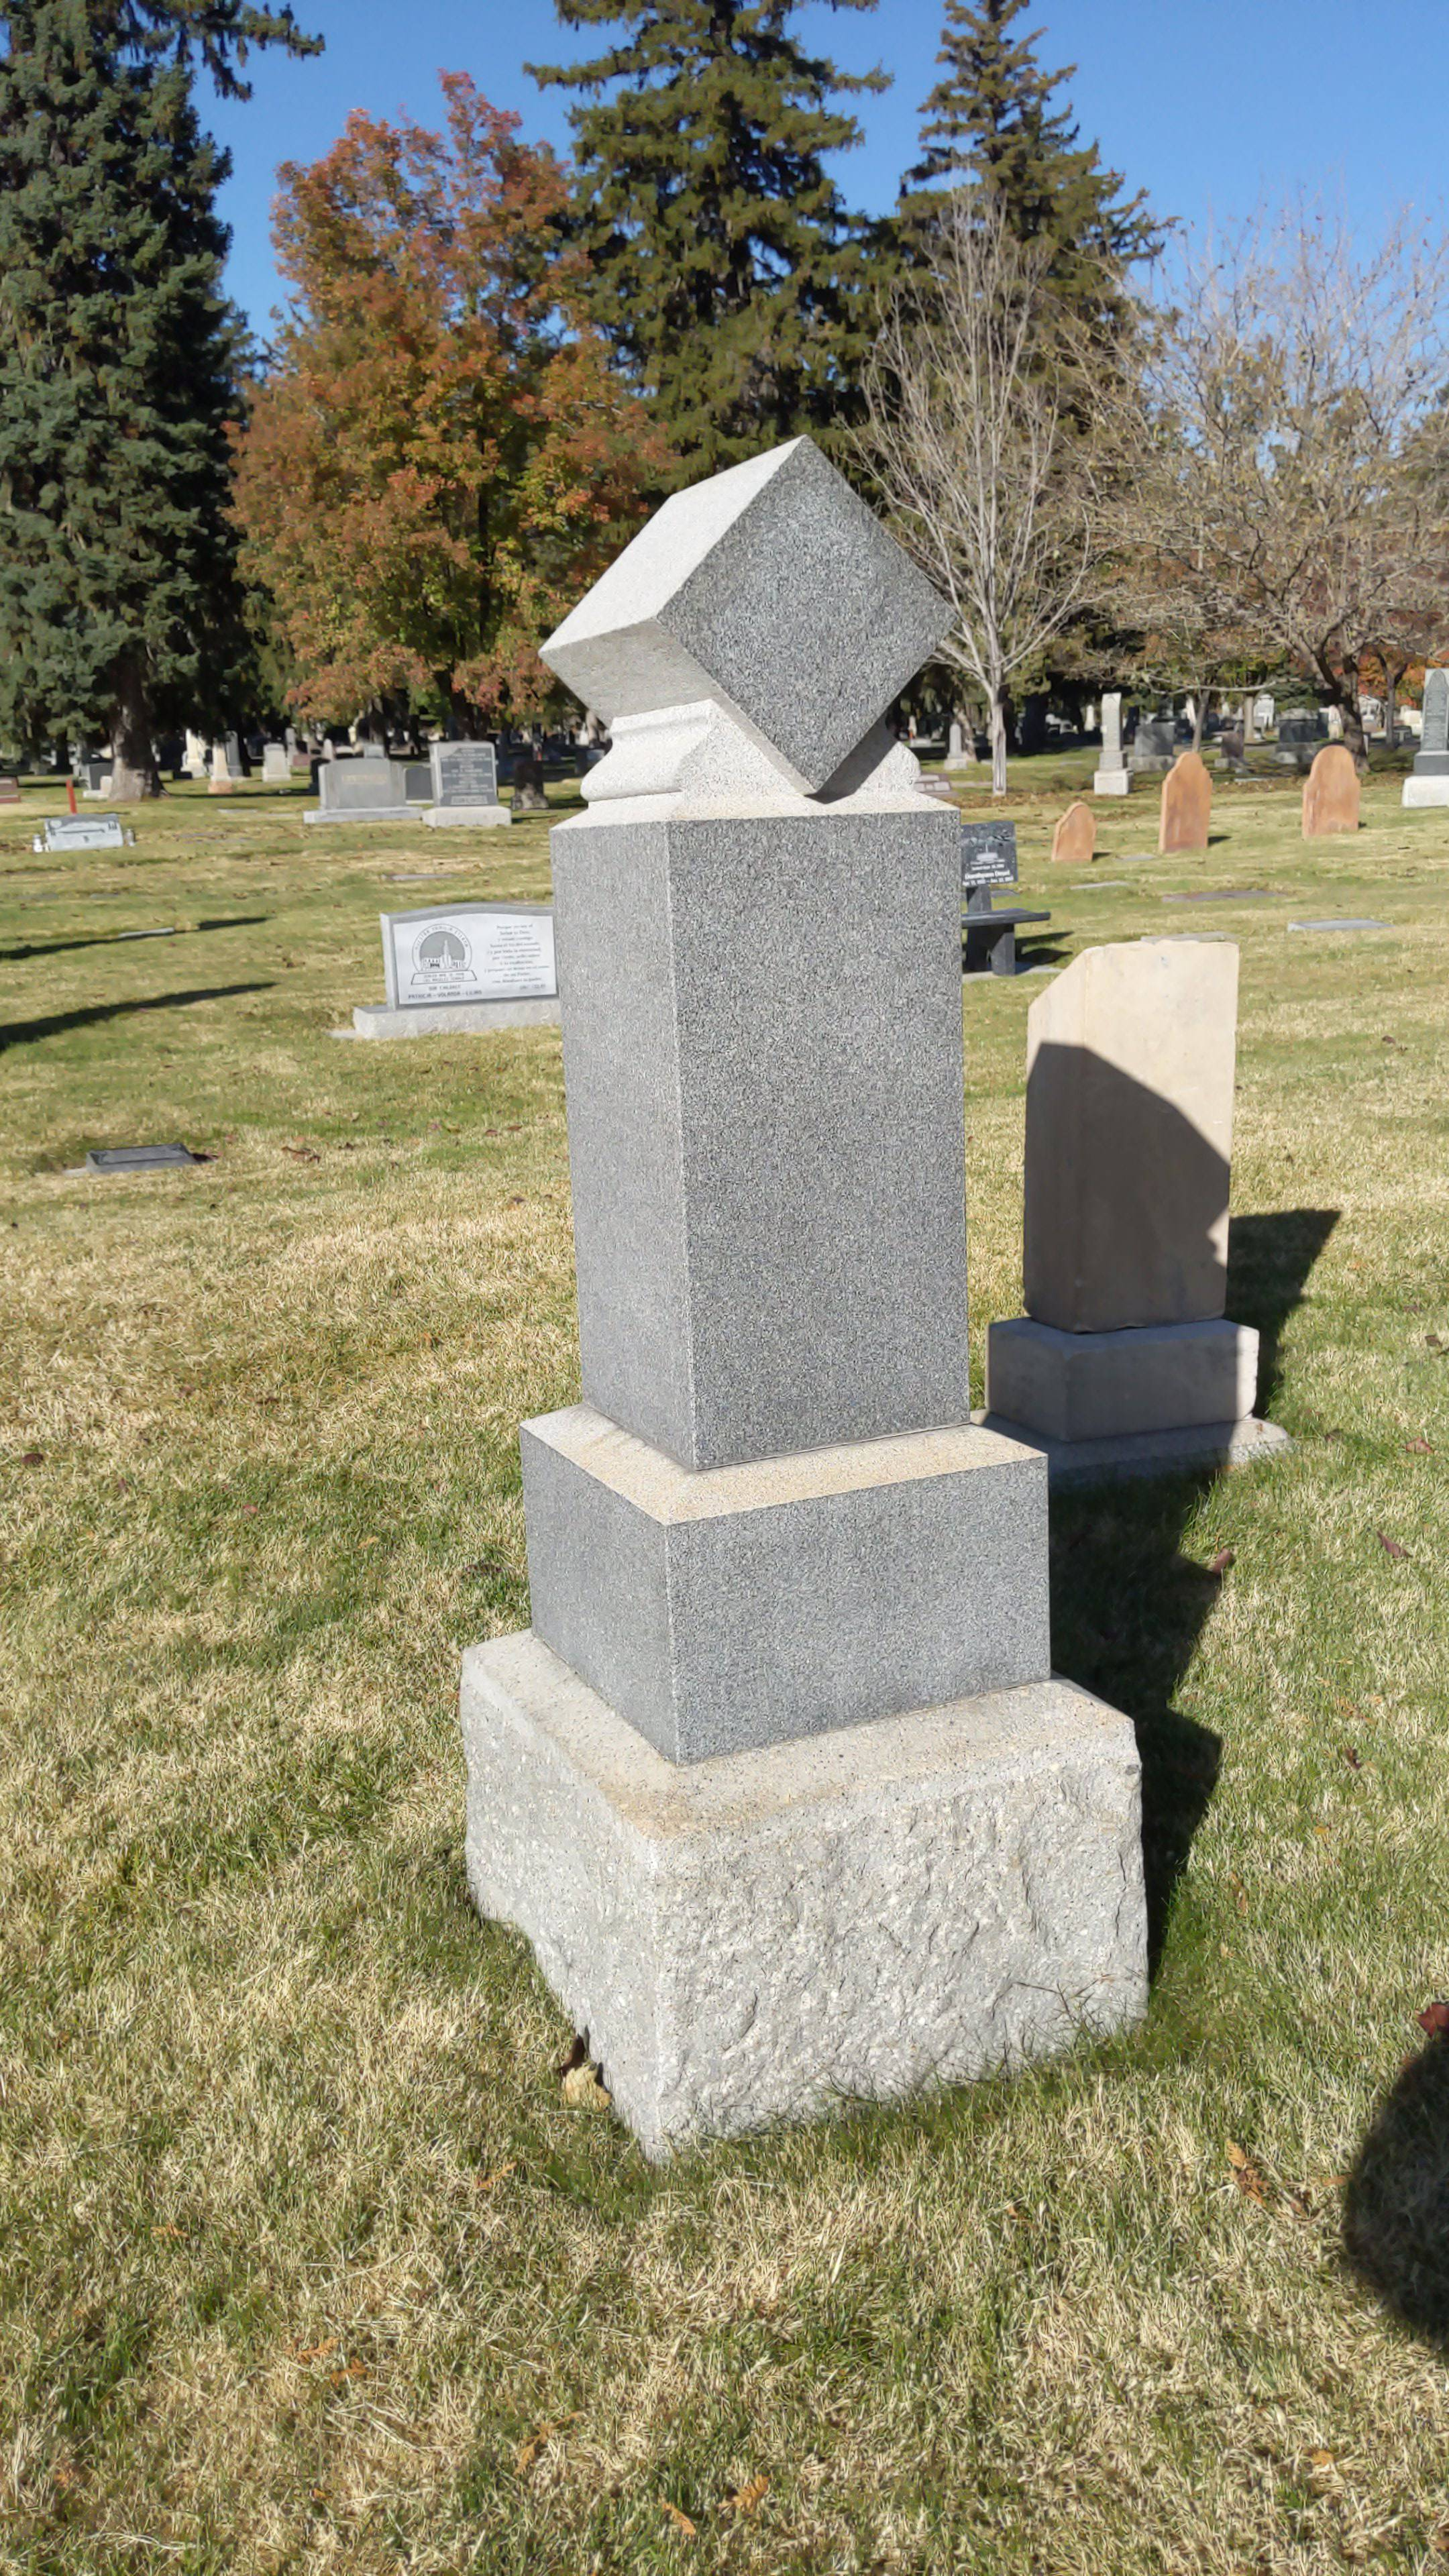obelisk: (524, 439, 1058, 1773)
